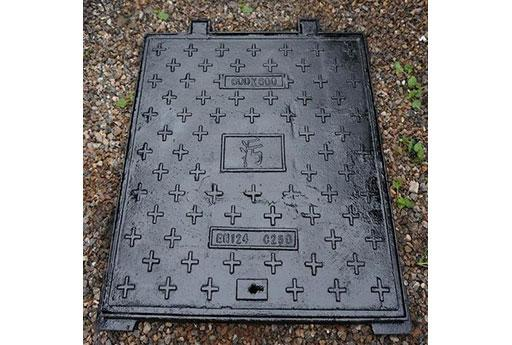wellcover: (100, 13, 414, 339)
